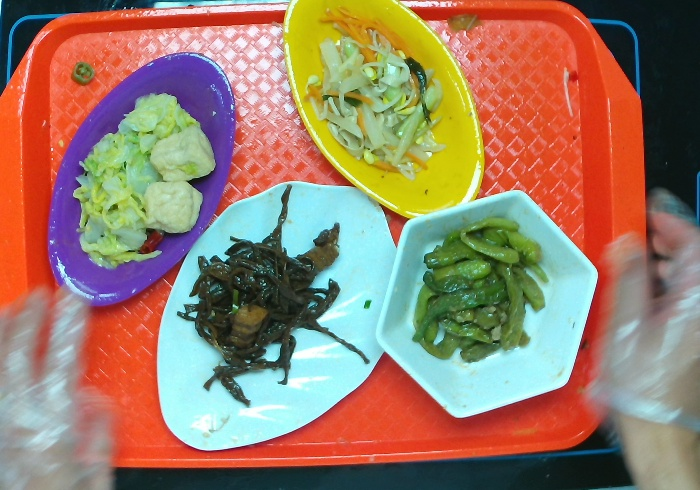RJxy-Bai_Ye_Pan: (152, 178, 405, 455)
RJxy-Fen_Hong_Tuo_Yuan: (42, 46, 239, 311)
RJxy-Huang_Se_Tuo_Yuan: (274, 1, 491, 226)
RJxy-Liu_Jiao_Wan: (371, 183, 603, 426)
